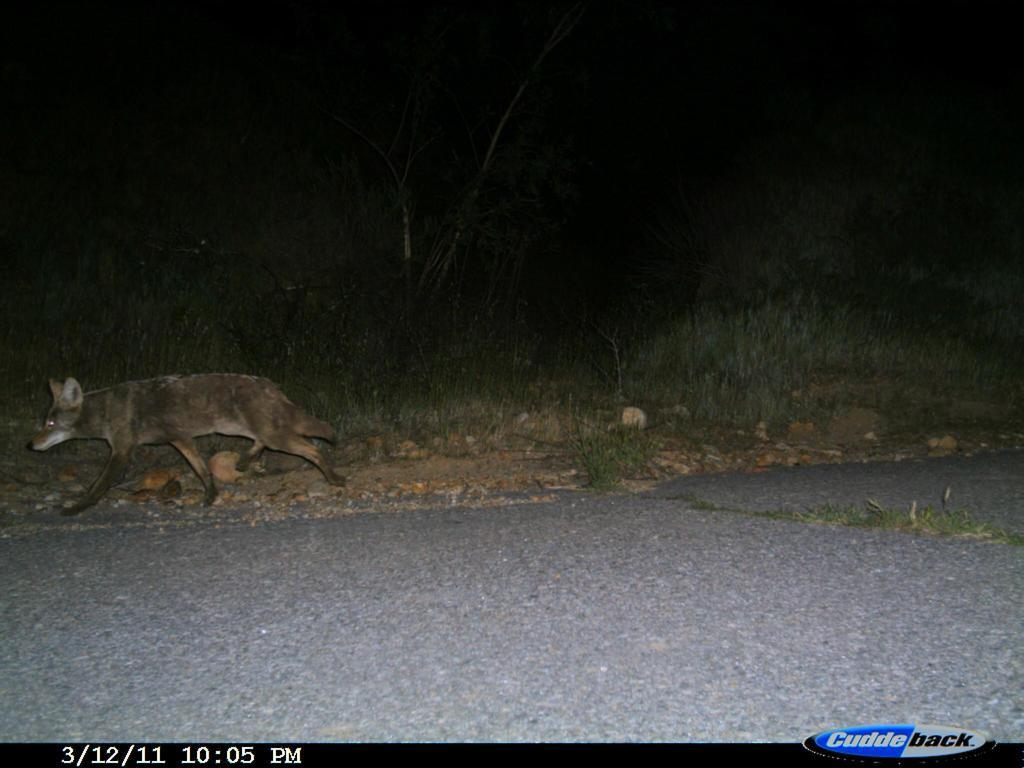coyote: (1, 319, 363, 545)
